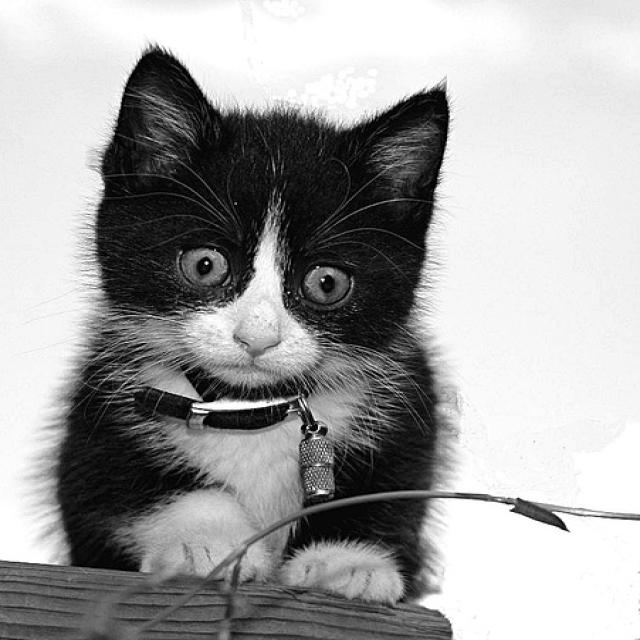cat: (27, 42, 461, 606)
